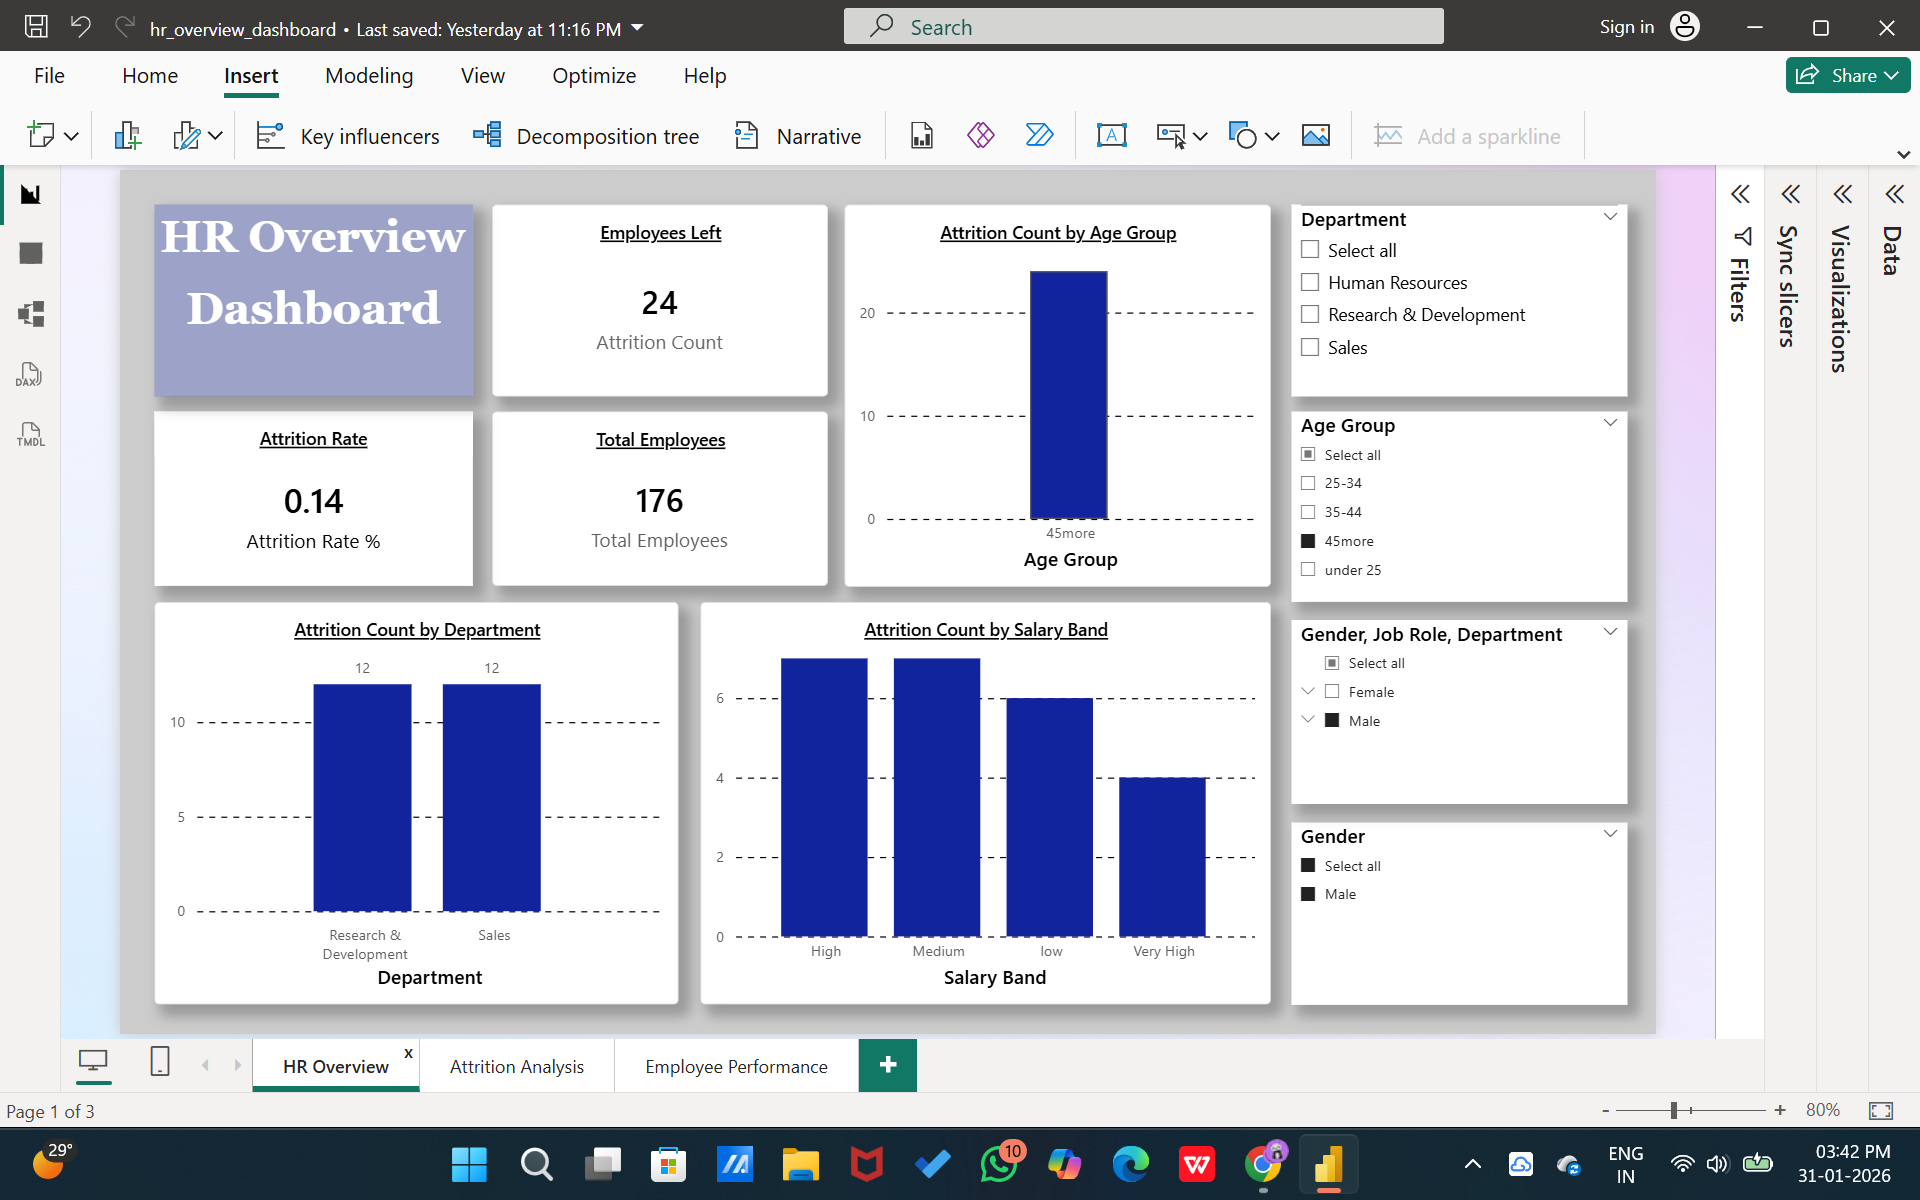

The dashboard page shown, as its layout file describes it:
{"tool":"powerbi","page":{"name":"HR Overview","canvas":[1280,720],"ordinal":0},"visuals":[{"type":"card","title":"Employees Left ","fields":{"Values":["WA_Fn-UseC_-HR-Employee-Attrition.Attrition Count"]},"box":[310,28.3,280,160],"z":0},{"type":"card","title":"Total Employees","fields":{"Values":["WA_Fn-UseC_-HR-Employee-Attrition.Total Employees"]},"box":[310,201.7,280,145],"z":1000},{"type":"card","title":"Attrition Rate ","fields":{"Values":["WA_Fn-UseC_-HR-Employee-Attrition.Attrition Rate %"]},"box":[28.3,201.7,265,145],"z":2000},{"type":"clusteredColumnChart","fields":{"Category":["WA_Fn-UseC_-HR-Employee-Attrition.Department"],"Y":["WA_Fn-UseC_-HR-Employee-Attrition.Attrition Count"]},"box":[28.3,360,436.7,335],"z":3000},{"type":"clusteredColumnChart","fields":{"Category":["WA_Fn-UseC_-HR-Employee-Attrition.Age Group"],"Y":["WA_Fn-UseC_-HR-Employee-Attrition.Attrition Count"]},"box":[603.3,28.3,355,318.3],"z":4000},{"type":"clusteredColumnChart","title":"Attrition Distribution by Salary Band","fields":{"Category":["WA_Fn-UseC_-HR-Employee-Attrition.Salary Band"],"Y":["WA_Fn-UseC_-HR-Employee-Attrition.Attrition Count"]},"box":[483.3,360,475,335],"z":5000},{"type":"slicer","fields":{"Values":["WA_Fn-UseC_-HR-Employee-Attrition.Department"]},"box":[976.7,28.3,280,160],"z":6000},{"type":"slicer","fields":{"Values":["WA_Fn-UseC_-HR-Employee-Attrition.Gender"]},"box":[976.7,543.3,280,151.7],"z":7000},{"type":"slicer","fields":{"Values":["WA_Fn-UseC_-HR-Employee-Attrition.Age Group"]},"box":[976.7,201.7,280,158.3],"z":8000},{"type":"slicer","fields":{"Values":["WA_Fn-UseC_-HR-Employee-Attrition.Gender","WA_Fn-UseC_-HR-Employee-Attrition.Job Role","WA_Fn-UseC_-HR-Employee-Attrition.Department"]},"box":[976.7,375,280,153.3],"z":9000},{"type":"textbox","box":[28.3,28.3,265,160],"z":10000}]}

Visuals, with their boxes on the page's 1280x720 design canvas (x1, y1, x2, y2). These are canvas units, not pixel positions in the 1920x1200 screenshot, which may show the page scaled, cropped or inside an application window:
"Employees Left " card: BBox(310, 28, 590, 188)
"Total Employees" card: BBox(310, 202, 590, 347)
"Attrition Rate " card: BBox(28, 202, 293, 347)
clusteredColumnChart - WA_Fn-UseC_-HR-Employee-Attrition.Department x WA_Fn-UseC_-HR-Employee-Attrition.Attrition Count: BBox(28, 360, 465, 695)
clusteredColumnChart - WA_Fn-UseC_-HR-Employee-Attrition.Age Group x WA_Fn-UseC_-HR-Employee-Attrition.Attrition Count: BBox(603, 28, 958, 347)
"Attrition Distribution by Salary Band" clusteredColumnChart: BBox(483, 360, 958, 695)
slicer - WA_Fn-UseC_-HR-Employee-Attrition.Department: BBox(977, 28, 1257, 188)
slicer - WA_Fn-UseC_-HR-Employee-Attrition.Gender: BBox(977, 543, 1257, 695)
slicer - WA_Fn-UseC_-HR-Employee-Attrition.Age Group: BBox(977, 202, 1257, 360)
slicer - WA_Fn-UseC_-HR-Employee-Attrition.Gender x WA_Fn-UseC_-HR-Employee-Attrition.Job Role: BBox(977, 375, 1257, 528)
textbox: BBox(28, 28, 293, 188)
